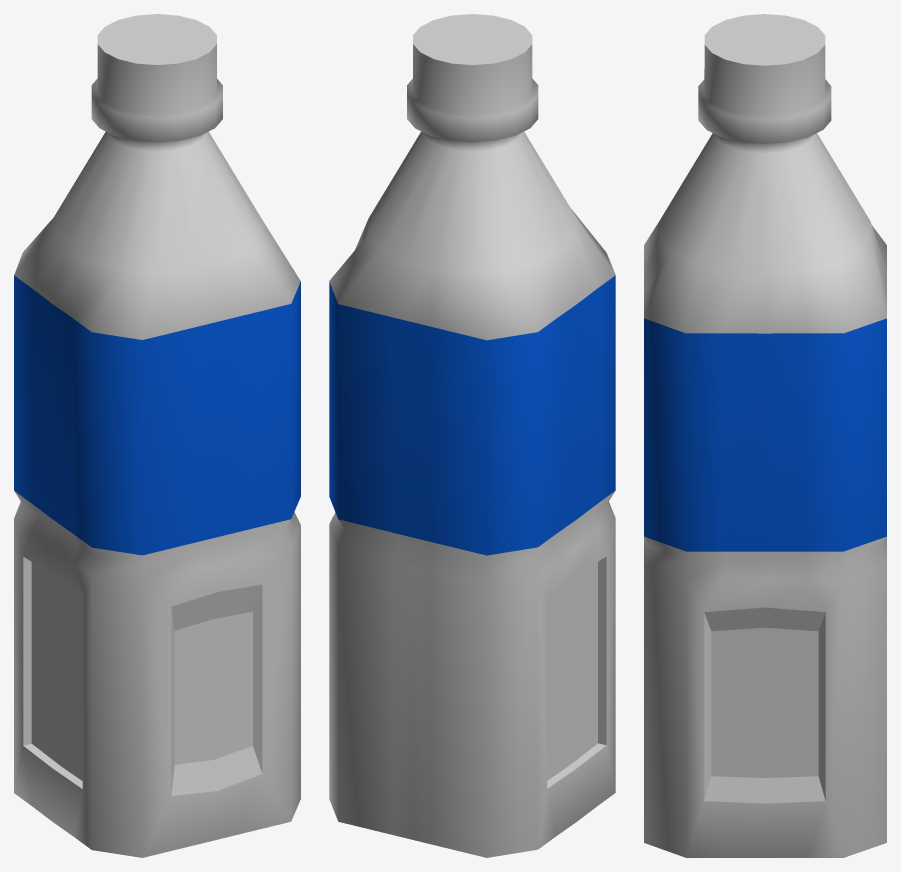
The model's file is petbottle.fbx.
3 renders of one model, left to right at view 1: azimuth 30°, elevation 25°; view 2: azimuth 150°, elevation 25°; view 3: azimuth 270°, elevation 25°, orthographic.
Parts seen in each view (by area): view 1: pCylinder1; view 2: pCylinder1; view 3: pCylinder1.
Part boxes in pixels (x1,y1,x2,y2): pCylinder1: (14, 14, 300, 857); pCylinder1: (329, 14, 615, 857); pCylinder1: (644, 14, 886, 857).
Size of the model in its own units: 7.36 by 25.66 by 7.29.
